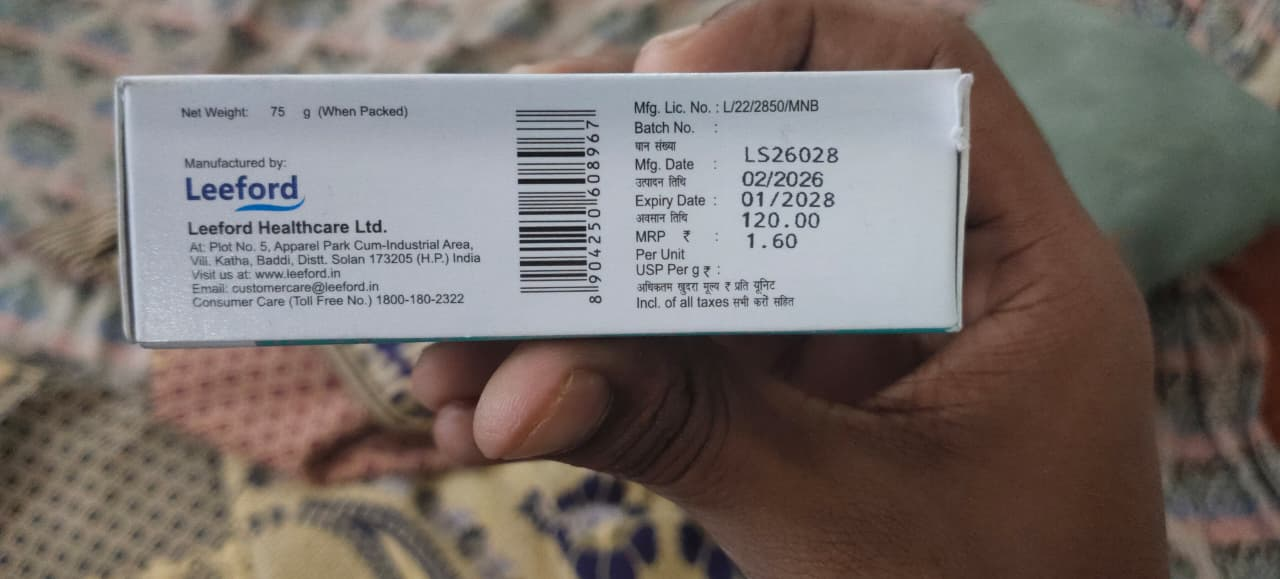manufacturer: (174, 153, 407, 238)
mfg_date: (736, 171, 844, 192)
mrp: (740, 211, 835, 228)
